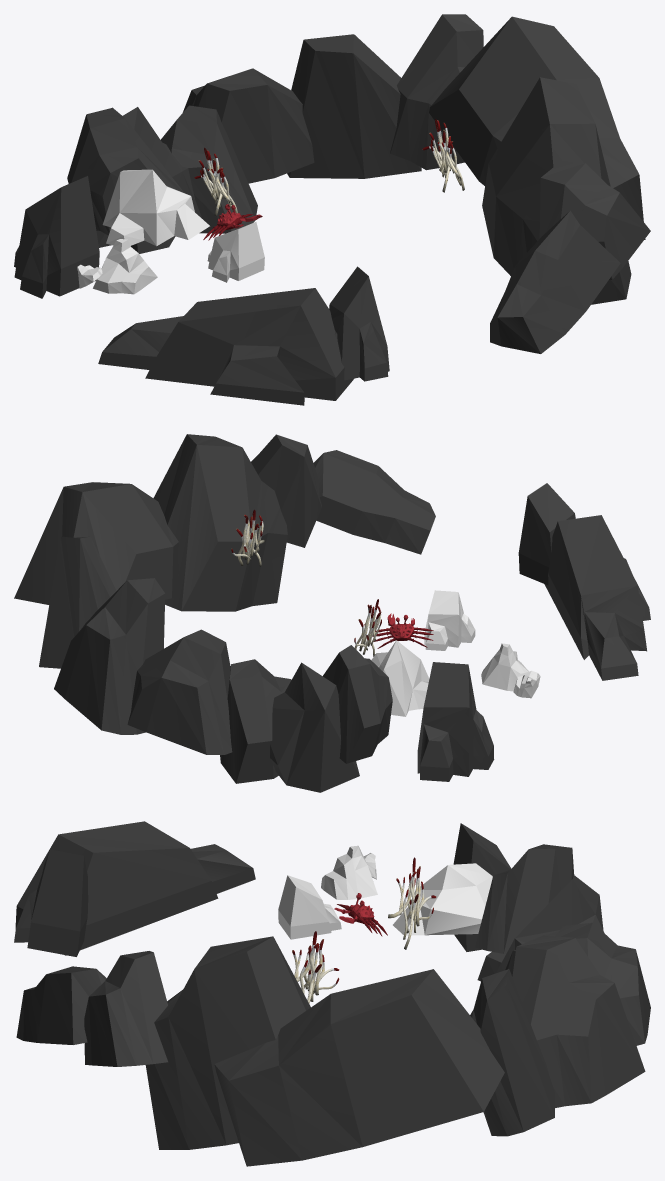
File: unity_03植物8.fbx
3 views of the same model, one above another, from view 1: azimuth 30°, elevation 25°; view 2: azimuth 150°, elevation 25°; view 3: azimuth 270°, elevation 25° (orthographic). The views are drawn at different scales.
Visible parts, largest first — view 1: Cube.001_rocks.001_0.002, Cube.025_rocks.001_0.005, Cube.025_rocks.001_0.003, Cube.025_rocks.001_0.006, Cube.025_rocks.001_0.009, Cube.025_rocks.001_0.002, Cube.001_rocks.001_0.001, Cube.025_rocks.001_0.004, Cube.025_rocks.001_0.007, Cube.025_rocks.001_0.001, Cube.025_rocks.001_0.008, Cube.013_rocks.001_0.002 (+7 smaller); view 2: Cube.025_rocks.001_0.006, Cube.001_rocks.001_0.002, Cube.025_rocks.001_0.005, Cube.025_rocks.001_0.003, Cube.025_rocks.001_0.002, Cube.025_rocks.001_0.009, Cube.013_rocks.001_0.001, Cube.001_rocks.001_0.001, Cube.025_rocks.001_0.004, Cube.025_rocks.001_0.001, Cube.025_rocks.001_0.008, Cube.025_rocks.001_0.007 (+8 smaller); view 3: Cube.025_rocks.001_0.005, Cube.025_rocks.001_0.006, Cube.025_rocks.001_0.003, Cube.001_rocks.001_0.002, Cube.025_rocks.001_0.004, Cube.025_rocks.001_0.007, Cube.025_rocks.001_0.008, Cube.001_rocks.001_0.003, Cube.025_rocks.001_0.009, Cube.013_rocks.001_0.002, Cube.025_rocks.001_0.002, Cube.013_rocks.001_0.001 (+6 smaller).
Boxes of the visible parts, x1=… form: Cube.001_rocks.001_0.002: x1=98, y1=288, x2=353, y2=405; Cube.025_rocks.001_0.005: x1=429, y1=16, x2=645, y2=239; Cube.025_rocks.001_0.003: x1=287, y1=34, x2=421, y2=178; Cube.025_rocks.001_0.006: x1=482, y1=77, x2=631, y2=304; Cube.025_rocks.001_0.009: x1=490, y1=210, x2=620, y2=353; Cube.025_rocks.001_0.002: x1=183, y1=68, x2=314, y2=183; Cube.001_rocks.001_0.001: x1=14, y1=176, x2=99, y2=298; Cube.025_rocks.001_0.004: x1=390, y1=14, x2=483, y2=170; Cube.025_rocks.001_0.007: x1=539, y1=161, x2=650, y2=279; Cube.025_rocks.001_0.001: x1=161, y1=105, x2=257, y2=233; Cube.025_rocks.001_0.008: x1=67, y1=107, x2=184, y2=235; Cube.013_rocks.001_0.002: x1=102, y1=169, x2=209, y2=246; Cube.025_rocks.001_0.006: x1=153, y1=434, x2=287, y2=611; Cube.001_rocks.001_0.002: x1=544, y1=515, x2=650, y2=680; Cube.025_rocks.001_0.005: x1=14, y1=482, x2=178, y2=604; Cube.025_rocks.001_0.003: x1=54, y1=578, x2=165, y2=734; Cube.025_rocks.001_0.002: x1=127, y1=629, x2=232, y2=754; Cube.025_rocks.001_0.009: x1=313, y1=450, x2=435, y2=554; Cube.013_rocks.001_0.001: x1=270, y1=662, x2=359, y2=792; Cube.001_rocks.001_0.001: x1=417, y1=662, x2=494, y2=781; Cube.025_rocks.001_0.004: x1=39, y1=536, x2=116, y2=668; Cube.025_rocks.001_0.001: x1=220, y1=659, x2=291, y2=783; Cube.025_rocks.001_0.008: x1=323, y1=645, x2=392, y2=763; Cube.025_rocks.001_0.007: x1=251, y1=434, x2=321, y2=547; Cube.025_rocks.001_0.005: x1=214, y1=969, x2=504, y2=1166; Cube.025_rocks.001_0.006: x1=145, y1=936, x2=310, y2=1149; Cube.025_rocks.001_0.003: x1=512, y1=935, x2=645, y2=1107; Cube.001_rocks.001_0.002: x1=15, y1=821, x2=255, y2=955; Cube.025_rocks.001_0.004: x1=470, y1=969, x2=554, y2=1136; Cube.025_rocks.001_0.007: x1=84, y1=951, x2=167, y2=1066; Cube.025_rocks.001_0.008: x1=475, y1=844, x2=574, y2=954; Cube.001_rocks.001_0.003: x1=14, y1=849, x2=88, y2=956; Cube.025_rocks.001_0.009: x1=16, y1=966, x2=106, y2=1044; Cube.013_rocks.001_0.002: x1=393, y1=863, x2=492, y2=935; Cube.025_rocks.001_0.002: x1=555, y1=922, x2=650, y2=1045; Cube.013_rocks.001_0.001: x1=477, y1=875, x2=604, y2=981.
Bounding box in the file's own units: 83.03 × 27.27 × 76.89.
